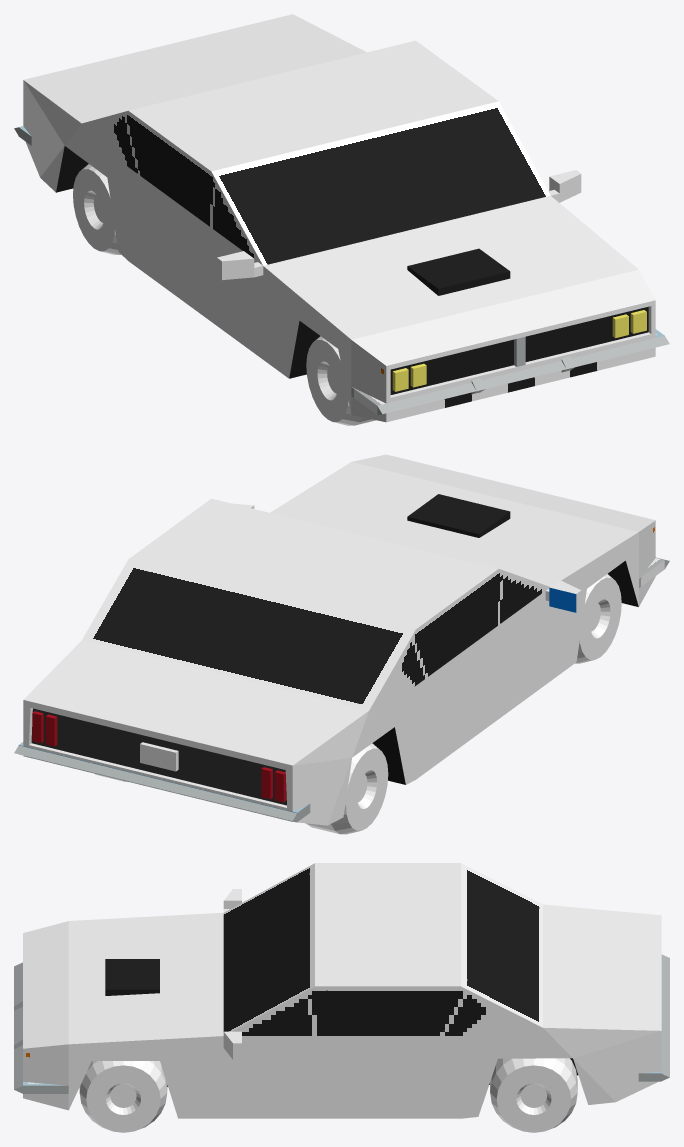
File: dml_judge.gltf
3 views of the same model, one above another, from view 1: azimuth 30°, elevation 25°; view 2: azimuth 150°, elevation 25°; view 3: azimuth 270°, elevation 25° (orthographic). The views are drawn at different scales.
Visible parts, largest first — view 1: Body, wheel-default (×2), FrontBumper, HoodShaker, HeadLights; view 2: Body, wheel-default (×2), RearBumper, HoodShaker, BrakeLights, RearLicense; view 3: Body, wheel-default (×2), HoodShaker, FrontBumper, RearBumper.
Boxes of the visible parts, x1=… form: Body: x1=23, y1=14, x2=655, y2=422; wheel-default (×2): x1=73, y1=164, x2=375, y2=425; FrontBumper: x1=351, y1=329, x2=669, y2=414; HoodShaker: x1=407, y1=248, x2=510, y2=295; HeadLights: x1=392, y1=310, x2=646, y2=391; Body: x1=23, y1=454, x2=655, y2=825; wheel-default (×2): x1=306, y1=574, x2=621, y2=834; RearBumper: x1=14, y1=742, x2=310, y2=822; HoodShaker: x1=407, y1=494, x2=510, y2=537; BrakeLights: x1=32, y1=711, x2=286, y2=802; RearLicense: x1=140, y1=742, x2=178, y2=771; Body: x1=23, y1=863, x2=661, y2=1118; wheel-default (×2): x1=79, y1=1058, x2=577, y2=1132; HoodShaker: x1=105, y1=959, x2=159, y2=995; FrontBumper: x1=14, y1=962, x2=68, y2=1093; RearBumper: x1=638, y1=954, x2=669, y2=1081.
Size of the model in its own units: 2.5 by 1.17 by 4.49.
4 materials, 3 textured.
